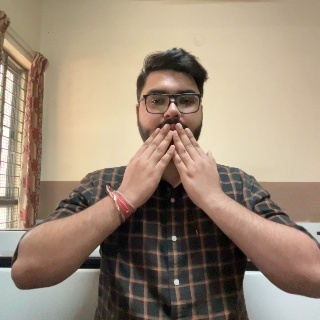Thank You: (121, 123, 231, 211)
